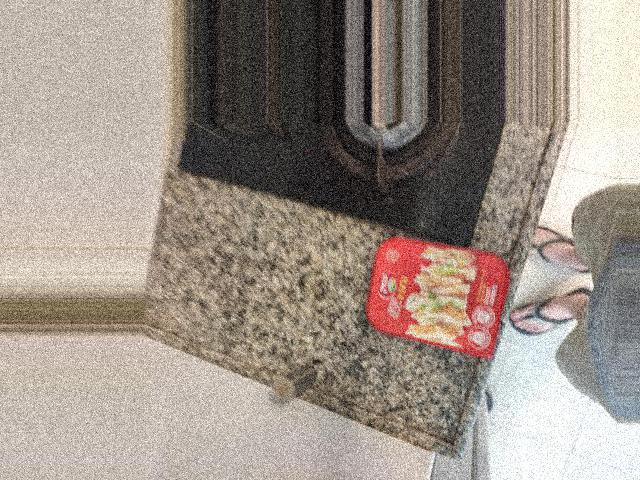cheese: (371, 237, 528, 361)
